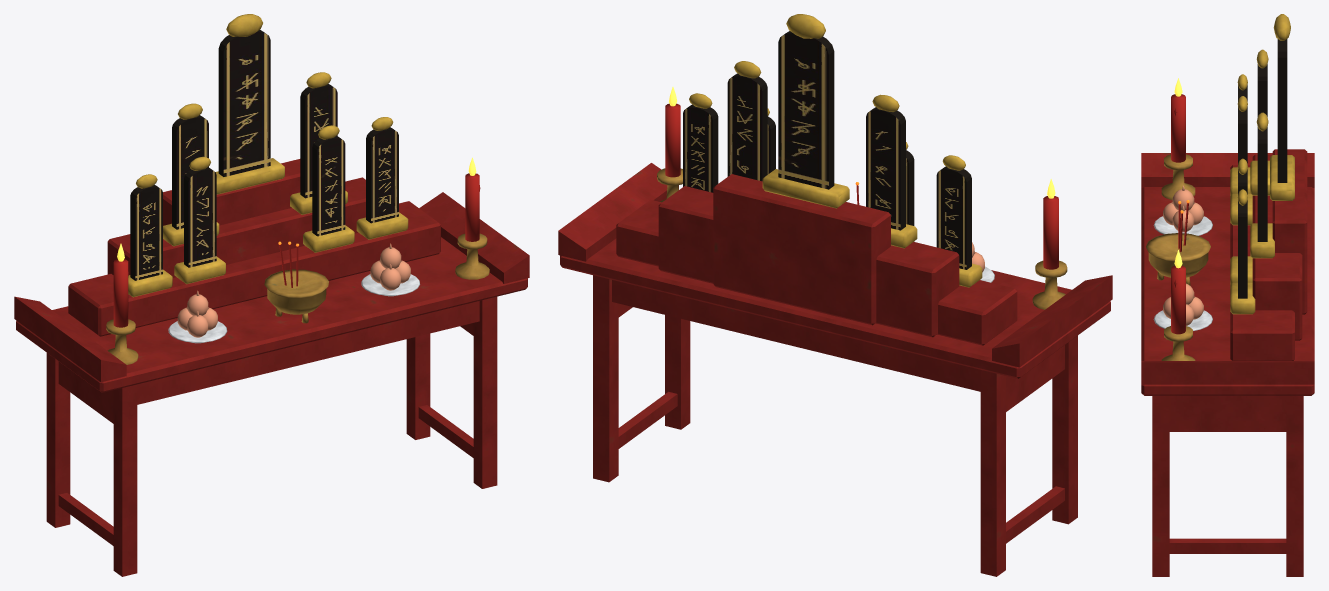
Rendered from ancestral_tablet.glb.
3 renders of one model, left to right at view 1: azimuth 30°, elevation 25°; view 2: azimuth 150°, elevation 25°; view 3: azimuth 270°, elevation 25°, orthographic. The views are drawn at different scales.
Parts seen in each view (by area): view 1: AltarTable, SpiritTablets, TabletGilt, AltarBrass, Peaches, AltarCandles, OfferingPlates; view 2: AltarTable, SpiritTablets, TabletGilt, AltarCandles, AltarBrass; view 3: AltarTable, SpiritTablets, TabletGilt, AltarBrass, AltarCandles, Peaches, OfferingPlates, IncenseSticks.
Boxes of the visible parts, x1,y1,x2,y2 form: AltarTable: (14,159,529,576); SpiritTablets: (130,30,398,280); TabletGilt: (128,14,408,297); AltarBrass: (106,233,489,364); Peaches: (177,243,410,337); AltarCandles: (113,173,480,327); OfferingPlates: (168,274,420,343); AltarTable: (558,163,1112,576); SpiritTablets: (683,31,971,269); TabletGilt: (689,14,982,287); AltarCandles: (665,103,1058,269); AltarBrass: (657,168,1067,309); AltarTable: (1141,149,1314,576); SpiritTablets: (1238,39,1287,298); TabletGilt: (1230,14,1294,314); AltarBrass: (1146,154,1210,360); AltarCandles: (1171,94,1185,334); Peaches: (1163,185,1203,325); OfferingPlates: (1153,216,1212,330); IncenseSticks: (1178,203,1188,251).
Size of what is drawn, in the model's own units: 2 by 2.09 by 0.7.
Materials: 9 (5 with a texture image).
